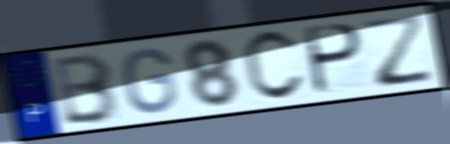8: (182, 36, 241, 111)
B: (53, 50, 122, 127)
C: (240, 28, 308, 104)
G: (121, 46, 180, 115)
P: (305, 22, 366, 97)
Z: (359, 11, 437, 90)
